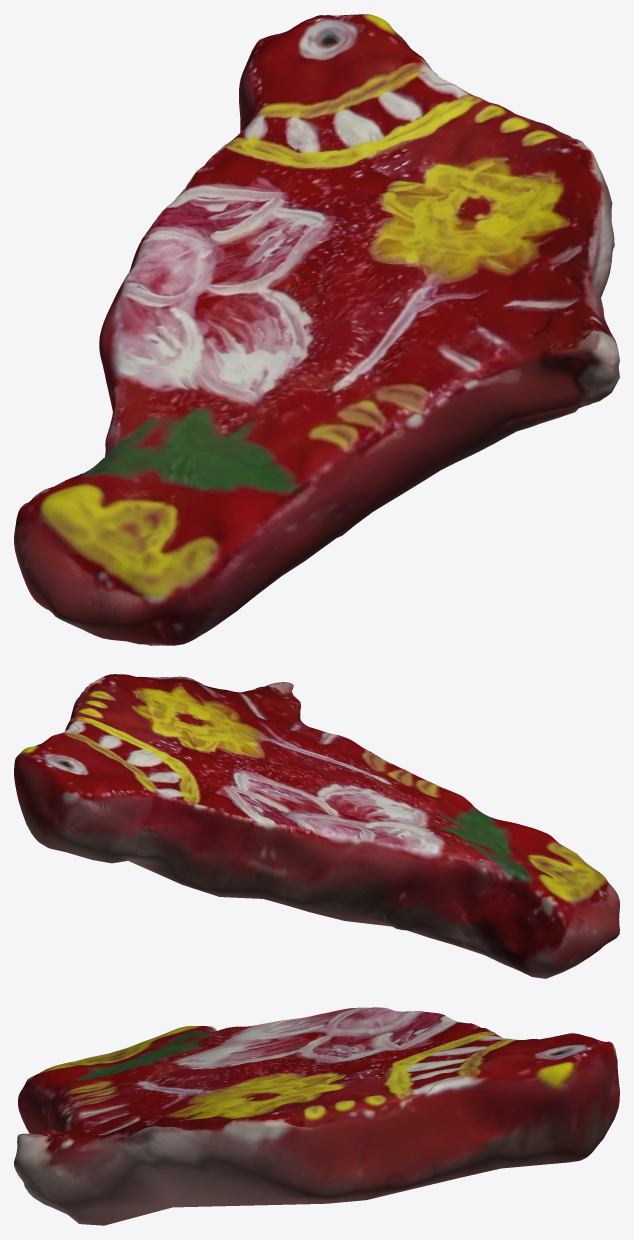
3 renders of one model, top to bottom at view 1: azimuth 30°, elevation 25°; view 2: azimuth 150°, elevation 25°; view 3: azimuth 270°, elevation 25°, orthographic. The views are drawn at different scales.
Bounding box in the file's own units: 0.5071 × 0.2564 × 0.4491.
Materials: 1 (1 with a texture image).
